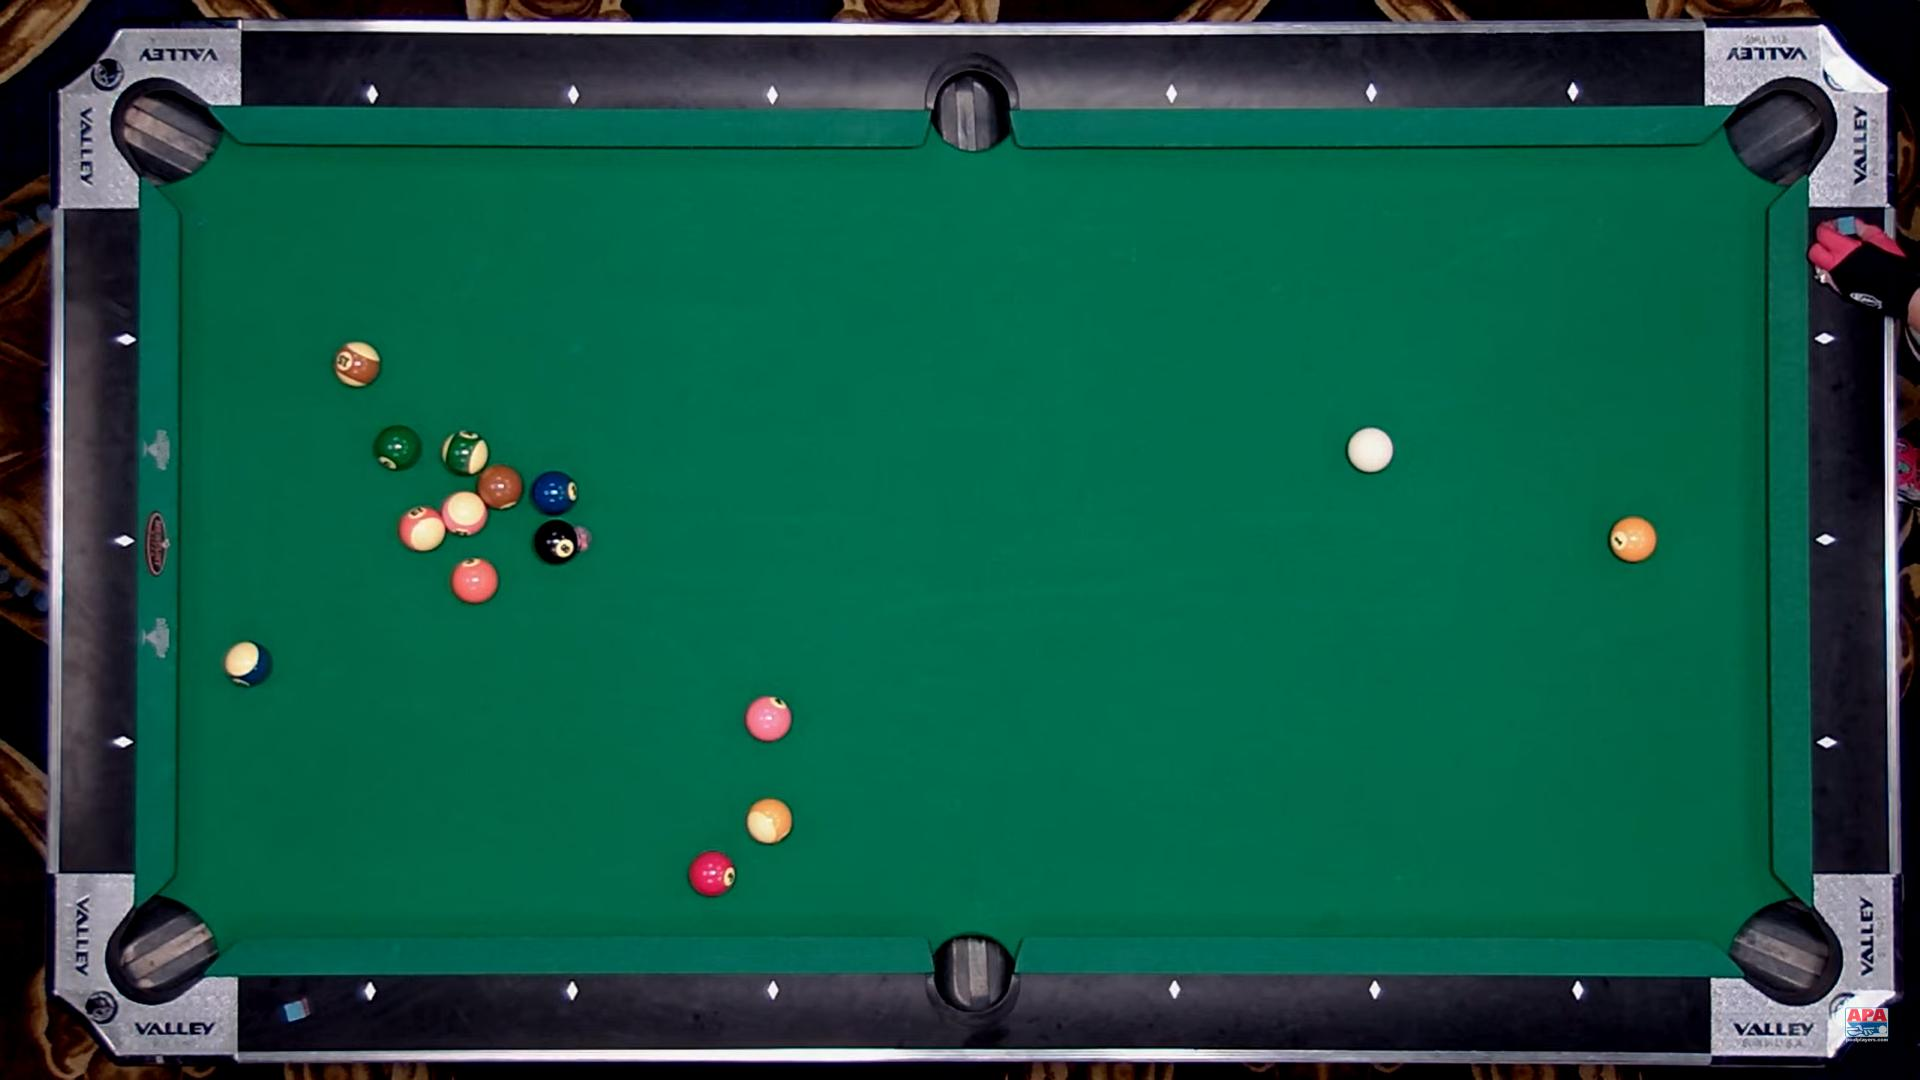Black: (535, 520, 578, 564)
Cue: (1346, 427, 1394, 472)
Dot: (116, 534, 131, 549), (365, 87, 380, 102), (766, 88, 781, 103), (1816, 331, 1830, 345), (1817, 534, 1832, 549), (1818, 736, 1833, 750), (1366, 982, 1381, 997), (1166, 982, 1180, 997), (115, 737, 129, 750), (120, 332, 133, 347), (567, 87, 580, 102), (1364, 86, 1378, 99), (1571, 985, 1585, 998), (765, 984, 779, 997), (363, 985, 376, 1000), (1164, 88, 1178, 102), (1567, 86, 1580, 99), (564, 985, 578, 998)
Solid: (375, 425, 423, 471), (688, 852, 737, 897), (1610, 517, 1656, 563), (745, 696, 793, 741), (452, 558, 500, 603), (531, 471, 578, 516), (479, 465, 525, 510)
Striped: (440, 430, 491, 477), (224, 641, 273, 688), (335, 342, 382, 388), (401, 508, 447, 554), (748, 799, 794, 844), (442, 491, 488, 534)
